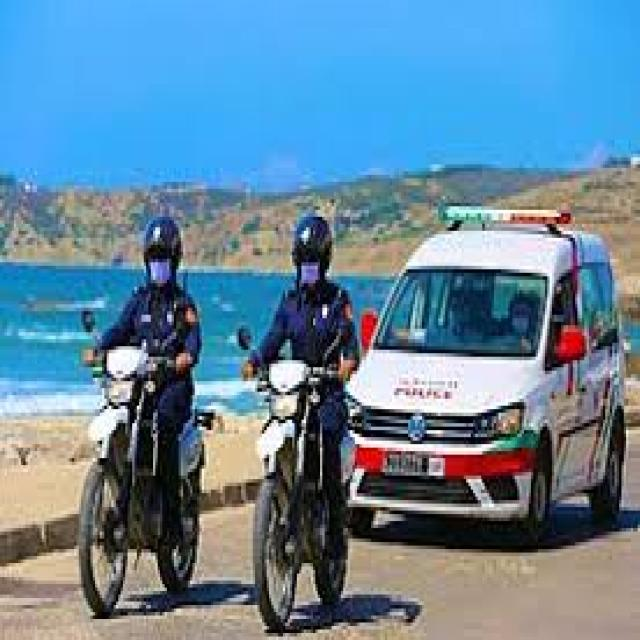police: (359, 196, 621, 539)
